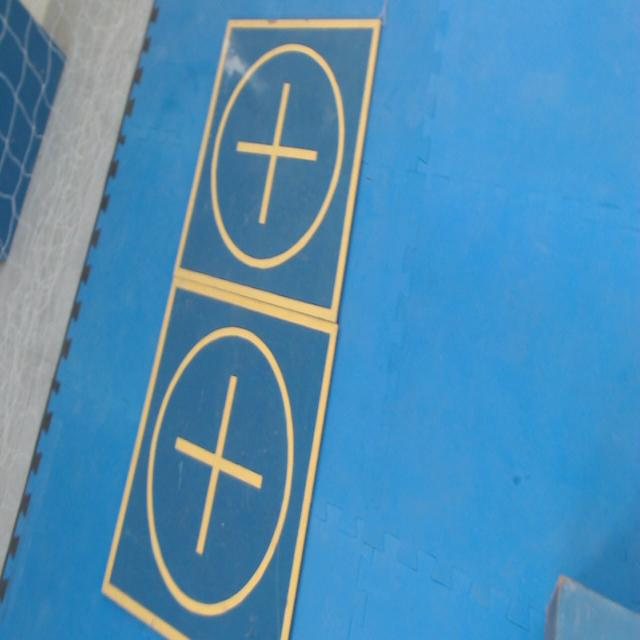base_pouso: (99, 269, 343, 639), (174, 17, 384, 324)
